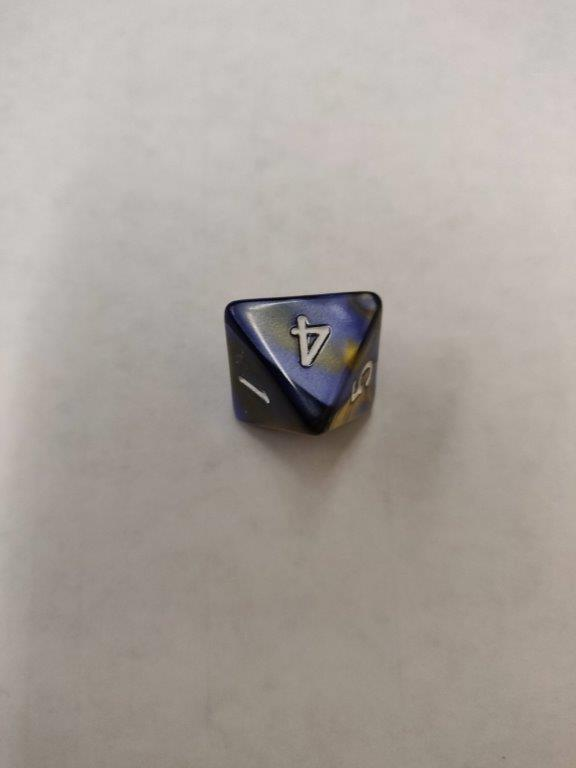d8-4: (223, 289, 383, 433)
